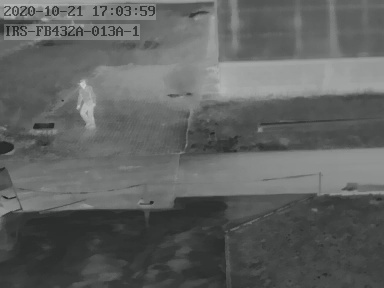person: (72, 77, 97, 125)
